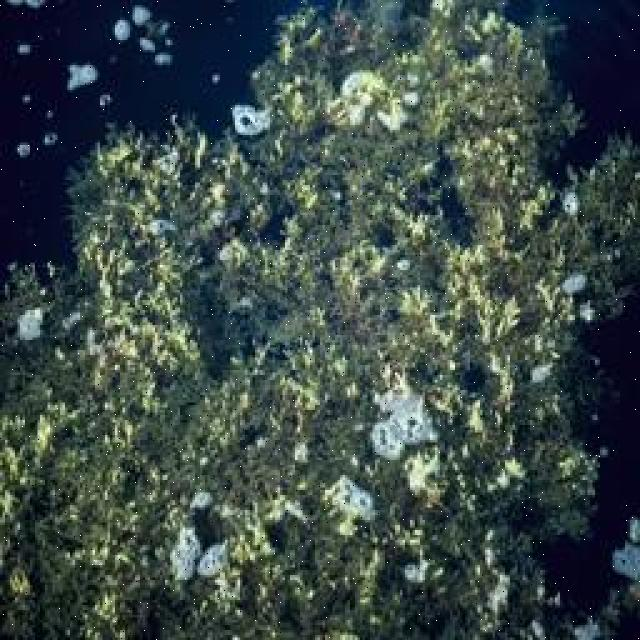reefs: (0, 1, 638, 638)
